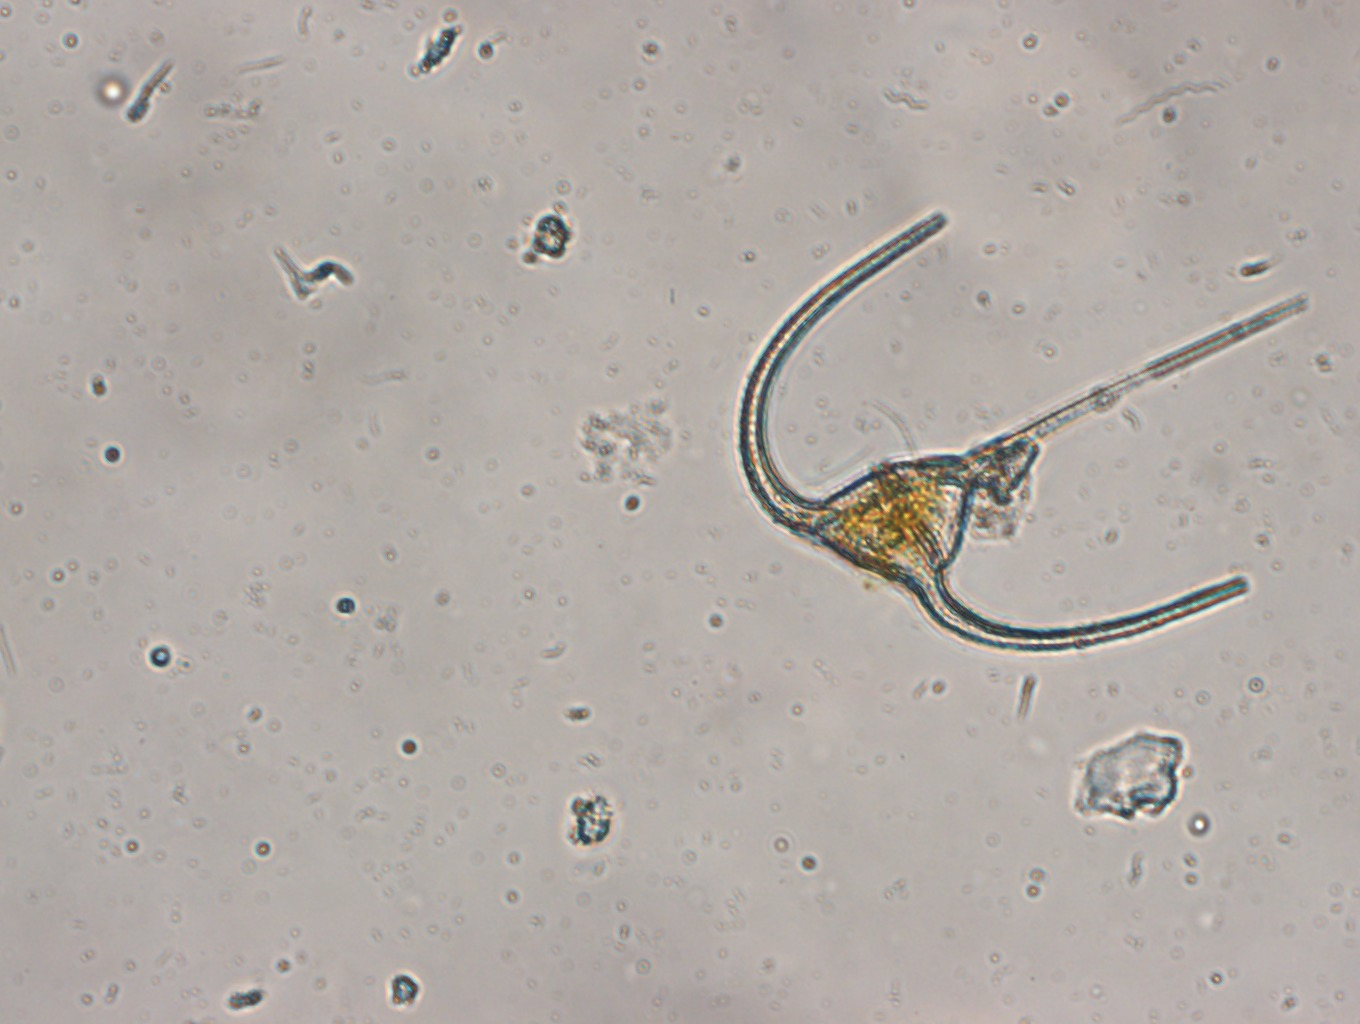ceratium trichoceros: (732, 197, 1320, 662)
